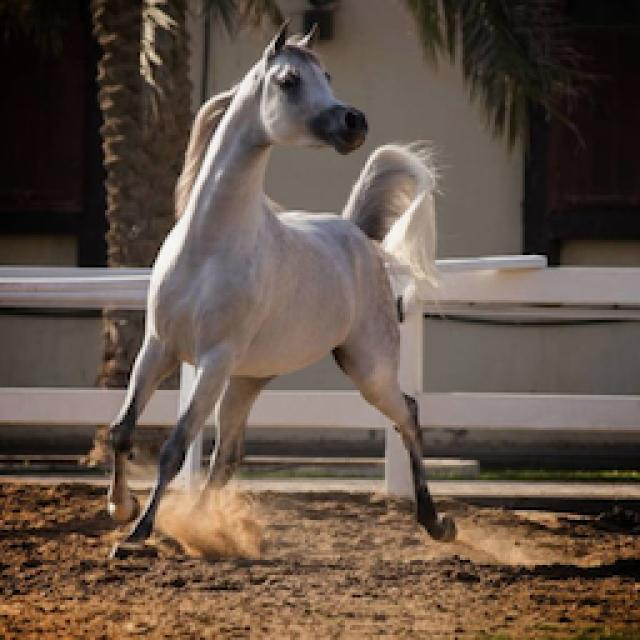Horse: (92, 18, 466, 560)
